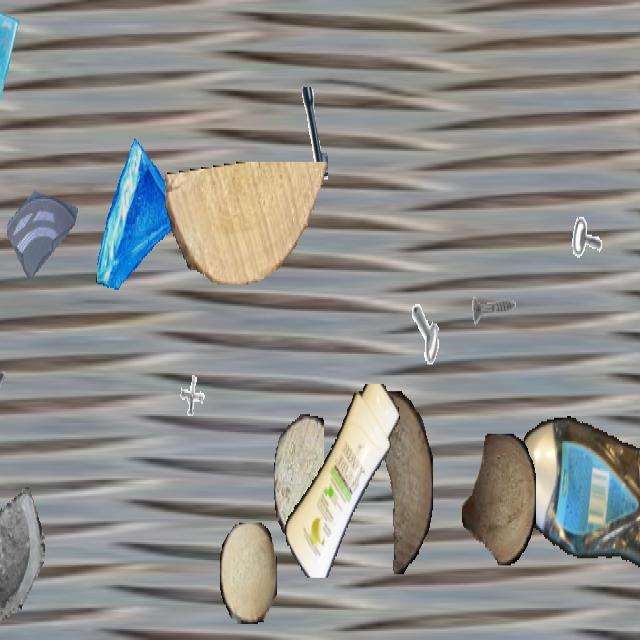glass: (94, 137, 188, 304), (7, 162, 79, 290), (0, 482, 44, 638), (0, 2, 24, 105)
metal: (270, 87, 328, 190), (411, 270, 465, 366), (470, 270, 516, 352), (174, 361, 214, 432), (572, 192, 612, 263), (0, 357, 10, 432)
plastic: (282, 384, 404, 576), (517, 414, 640, 585)
wood: (165, 162, 331, 282), (361, 391, 433, 573), (462, 434, 536, 565), (274, 414, 324, 542), (220, 523, 276, 622)
